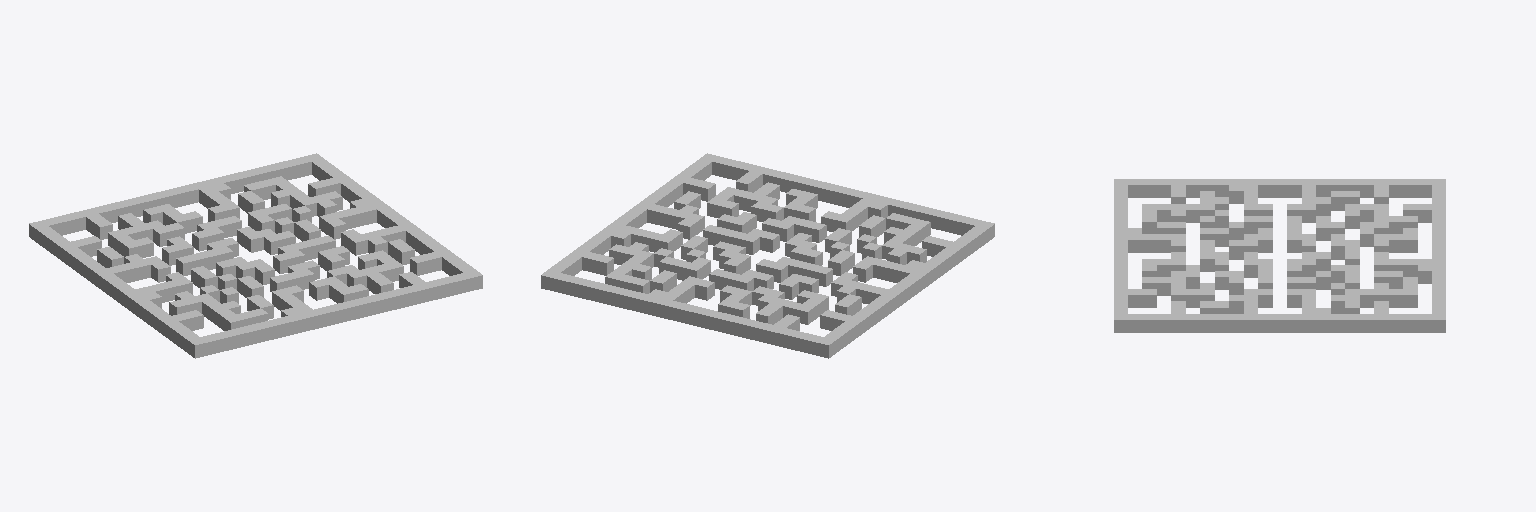
The model's file is Maze Top.obj.
3 views of the same model, side by side, from view 1: azimuth 30°, elevation 25°; view 2: azimuth 150°, elevation 25°; view 3: azimuth 270°, elevation 25° (orthographic).
Parts seen in each view (by area): view 1: Maze1; view 2: Maze1; view 3: Maze1.
Boxes of the visible parts, <box> form: Maze1: <box>29,153,482,358</box>; Maze1: <box>541,153,994,358</box>; Maze1: <box>1114,179,1445,332</box>.
Size of the model in its own units: 23 by 1 by 23.